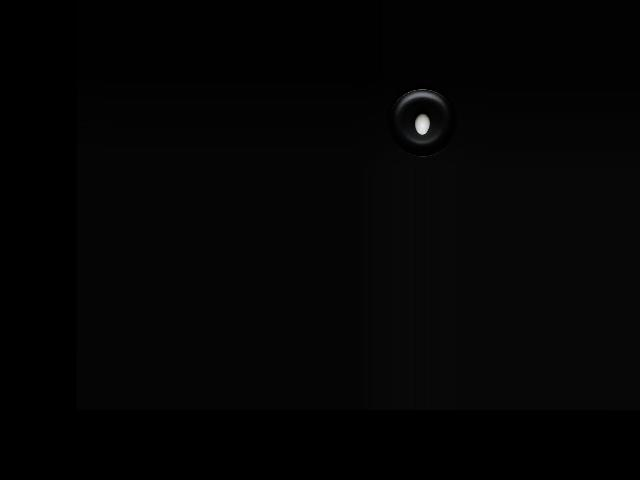egg: (415, 112, 430, 134)
